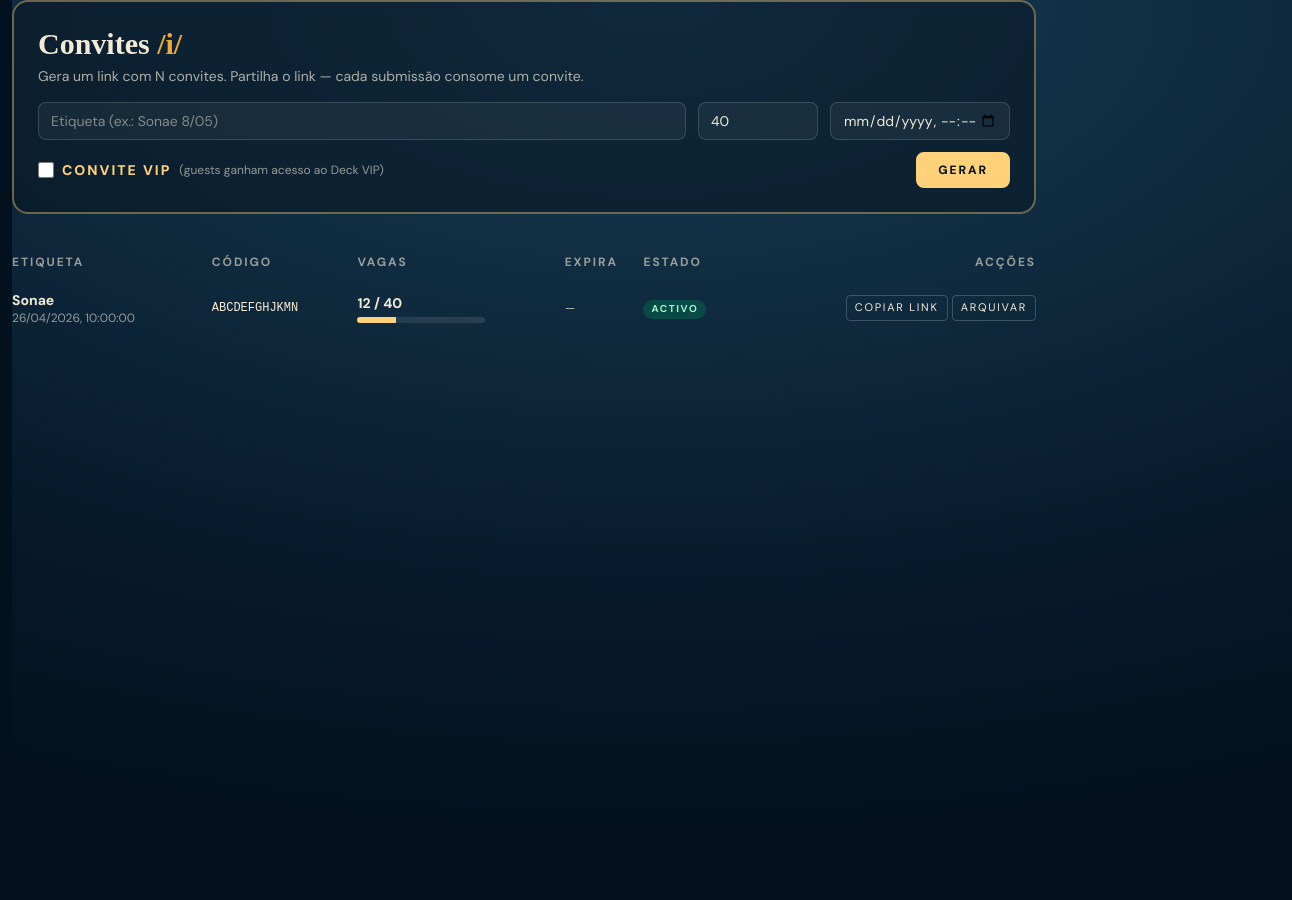
Test case: InvitesPanel › copy link button mostra status sem rebentar quando clipboard ausente
Click the button "Copiar link" at {"x": 897, "y": 308}, box [846, 295, 948, 321]
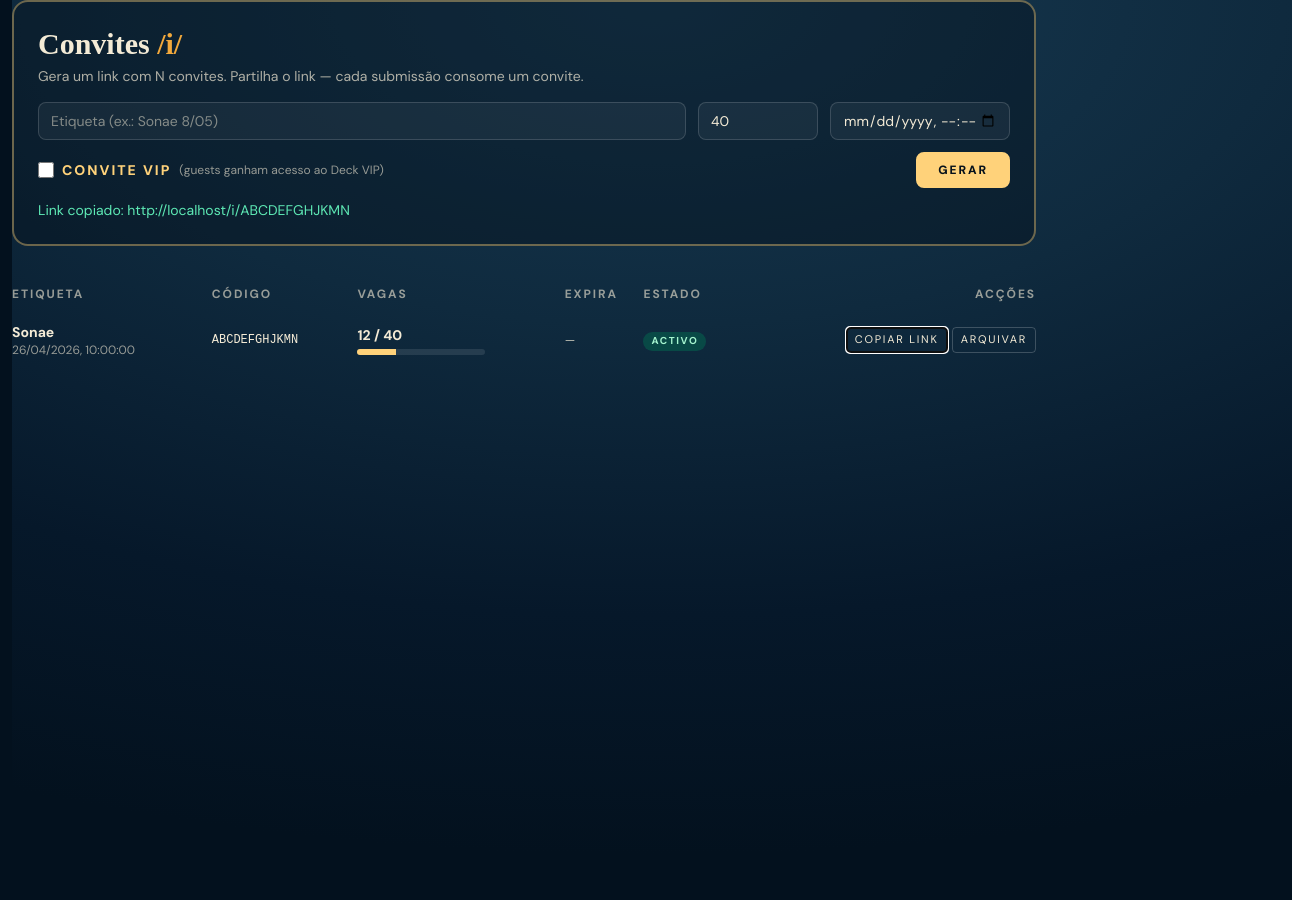
Check: the message shows "Link copiado", box [38, 201, 350, 219]
